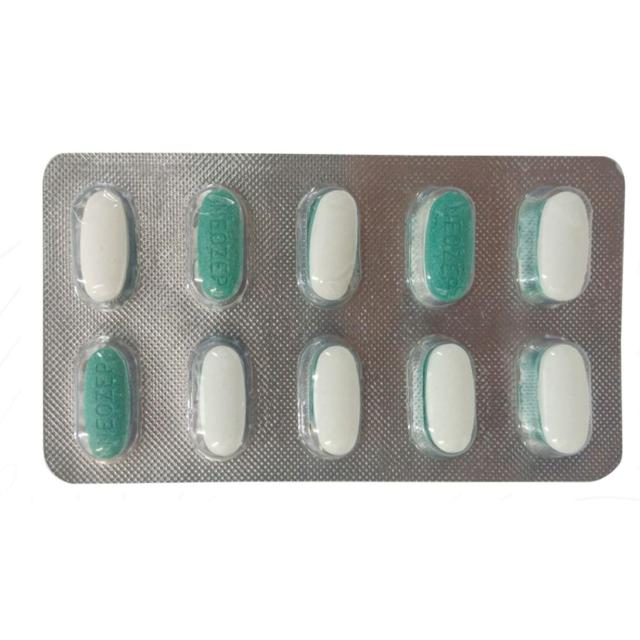blister: (34, 145, 627, 490)
